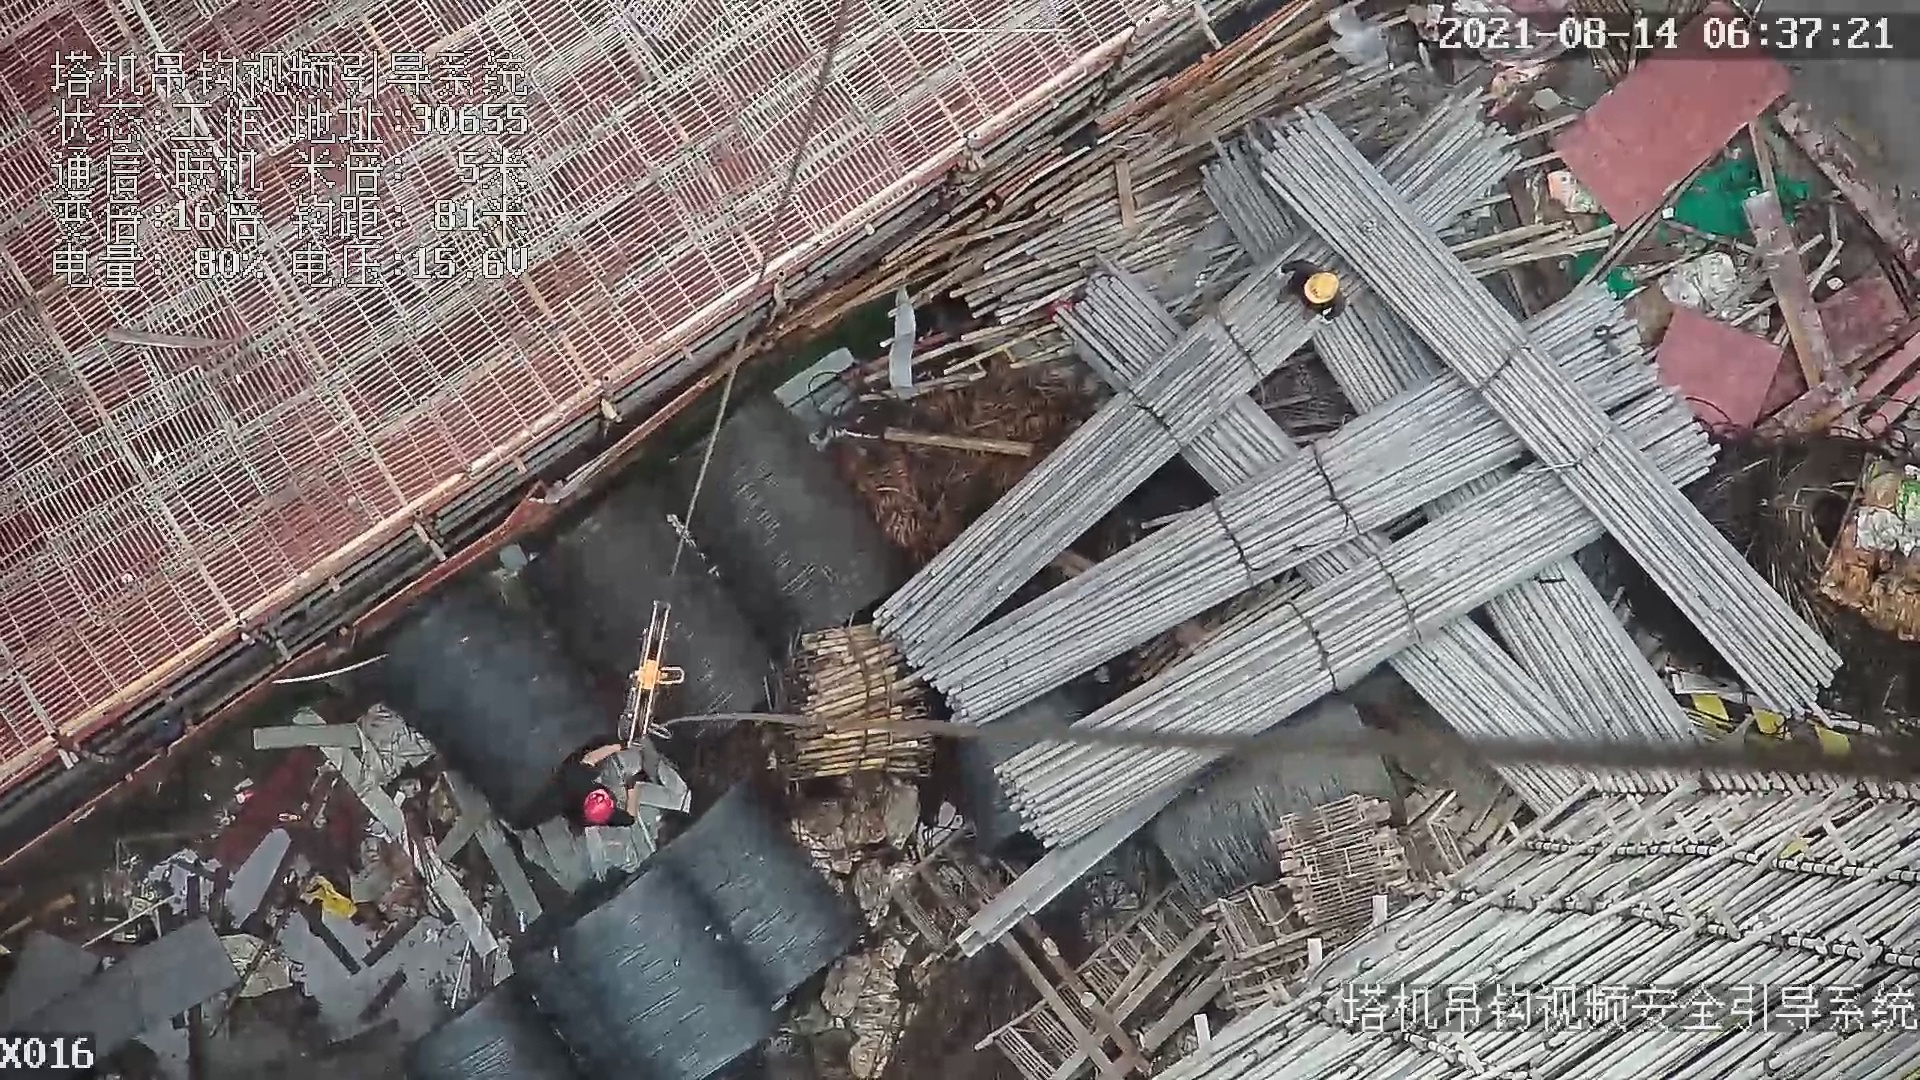helmet: (1301, 268, 1345, 308), (582, 792, 617, 829)
hook: (617, 595, 683, 753)
person: (555, 741, 644, 836), (1274, 250, 1354, 331)
scaffold: (945, 97, 1836, 785), (794, 618, 938, 782)
